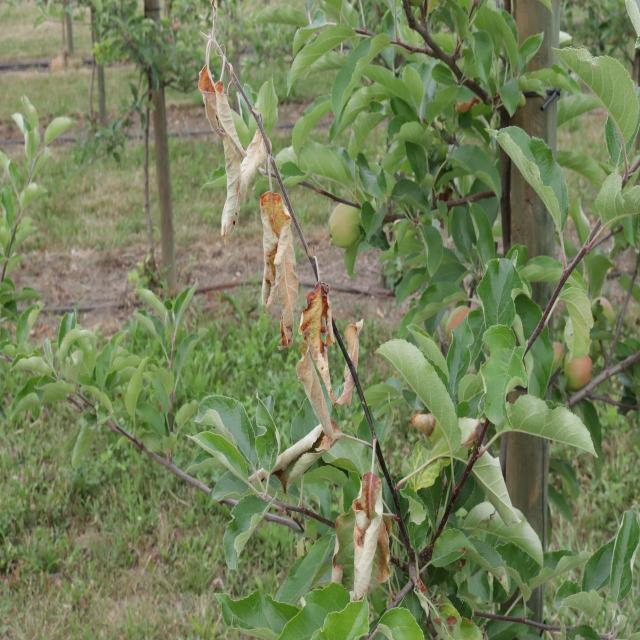-FireBlight-: (192, 35, 268, 216), (294, 283, 338, 445), (258, 196, 304, 338), (354, 447, 391, 592), (272, 431, 342, 466), (342, 316, 362, 409)
